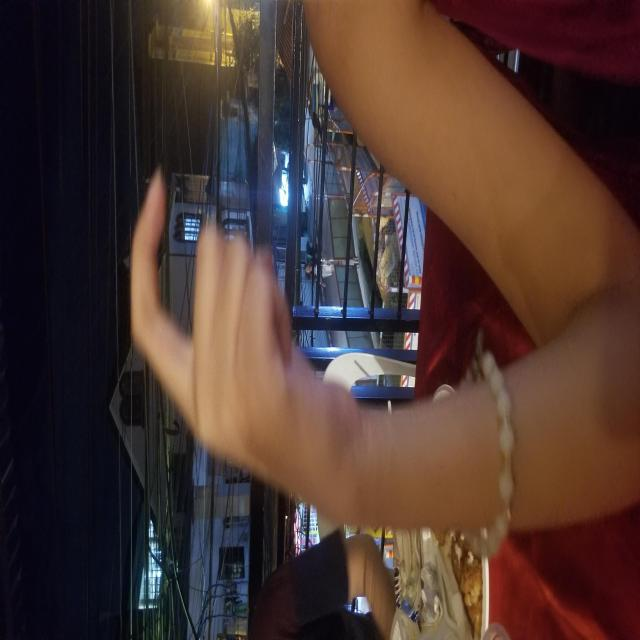X: (168, 129, 468, 363)
